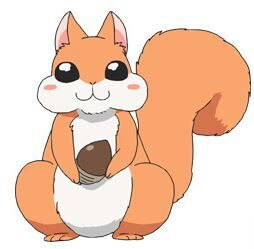Ardilla: (17, 8, 192, 248)
